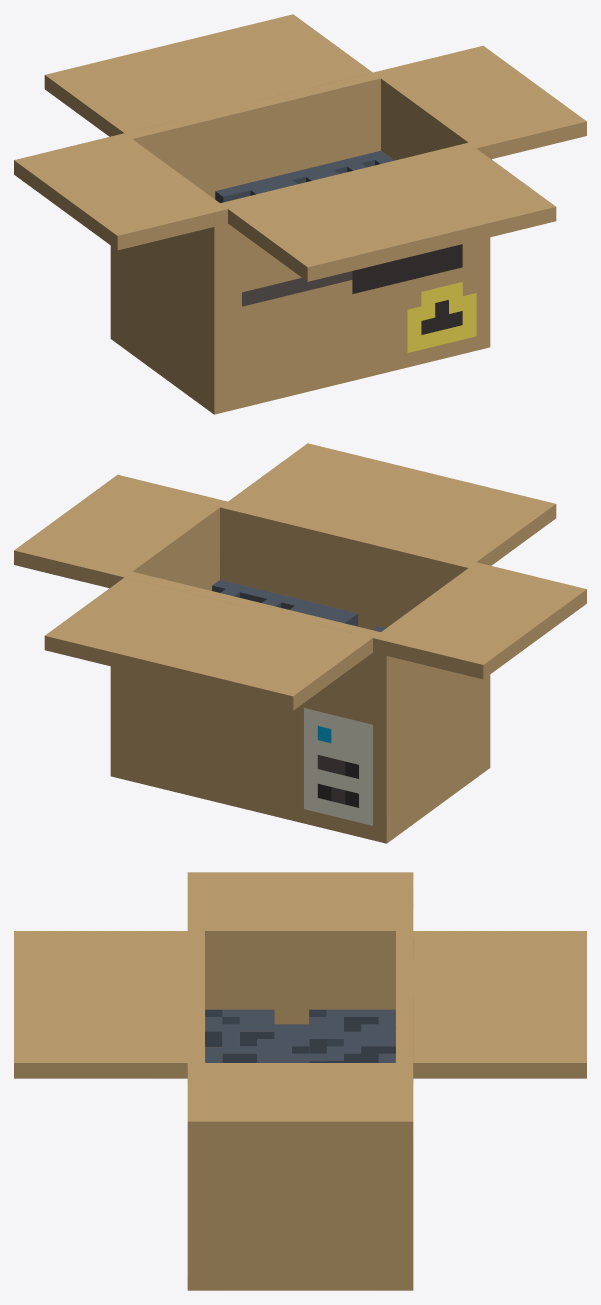
The model's file is IKEA_CajasScrewFilled.fbx.
3 views of the same model, one above another, from view 1: azimuth 30°, elevation 25°; view 2: azimuth 150°, elevation 25°; view 3: azimuth 270°, elevation 25° (orthographic). The views are drawn at different scales.
Visible parts, largest first — view 1: IKEA_CajasScrewFilled; view 2: IKEA_CajasScrewFilled; view 3: IKEA_CajasScrewFilled.
Part boxes in pixels (x1,y1,x2,y2): IKEA_CajasScrewFilled: [14, 14, 586, 414]; IKEA_CajasScrewFilled: [14, 443, 586, 843]; IKEA_CajasScrewFilled: [14, 872, 586, 1290].
Bounding box in the file's own units: 340 × 330 × 140.
